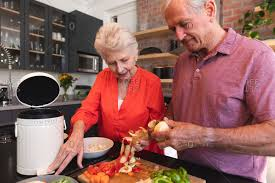Bad: (70, 1, 275, 138)
